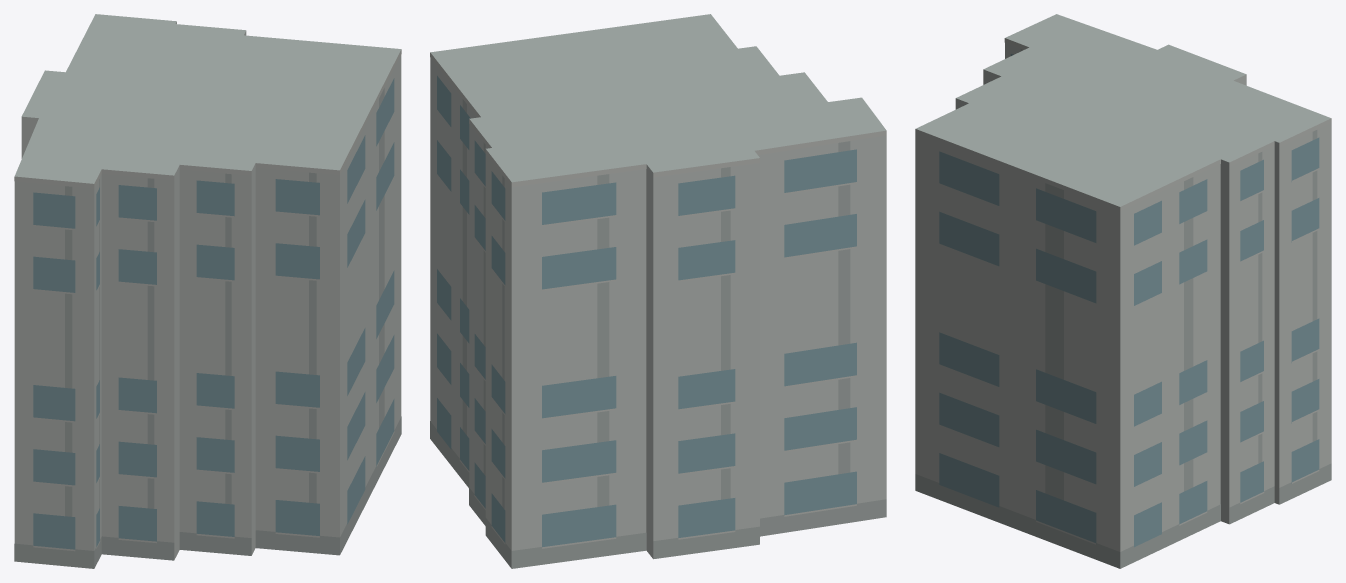
Rendered from survey-upis-32938043.glb.
3 renders of one model, left to right at view 1: azimuth 30°, elevation 25°; view 2: azimuth 150°, elevation 25°; view 3: azimuth 270°, elevation 25°, orthographic. The views are drawn at different scales.
Parts seen in each view (by area): view 1: survey-upis-32938043.tmp; view 2: survey-upis-32938043.tmp; view 3: survey-upis-32938043.tmp.
Part boxes in pixels (<box>): survey-upis-32938043.tmp: <box>14,14,401,568</box>; survey-upis-32938043.tmp: <box>430,14,886,568</box>; survey-upis-32938043.tmp: <box>915,14,1331,568</box>.
Size of the model in its own units: 21.74 by 19 by 19.8.
